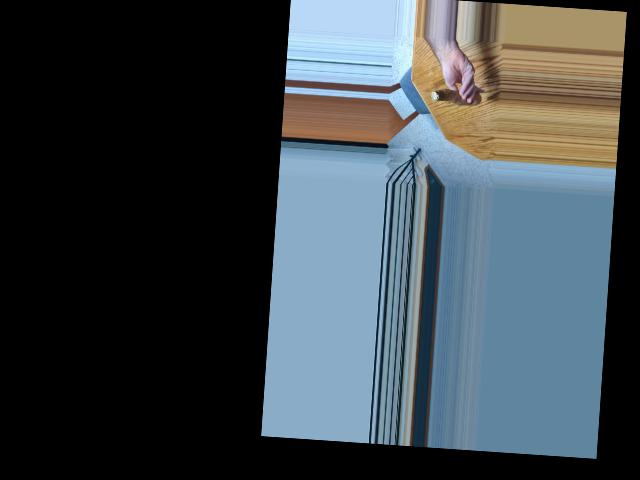sweet_potato: (435, 89, 477, 111)
